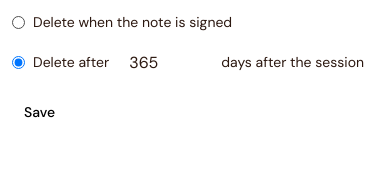
Scenario: AudioRetentionSettings › saves 0 when the clinician chooses to delete on signing
Click the radio button labelled "Delete when the note is signed": (18, 22) [12,16,25,28]
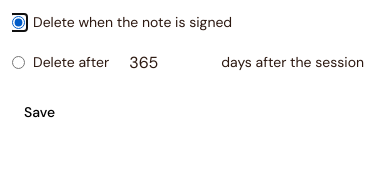
Click the button "Save": (40, 112) [12,96,67,128]
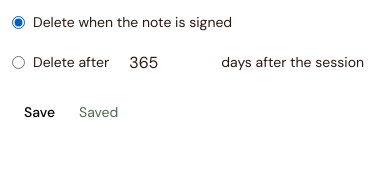
Expected: the message reads "Saved", [79,103,118,121]
